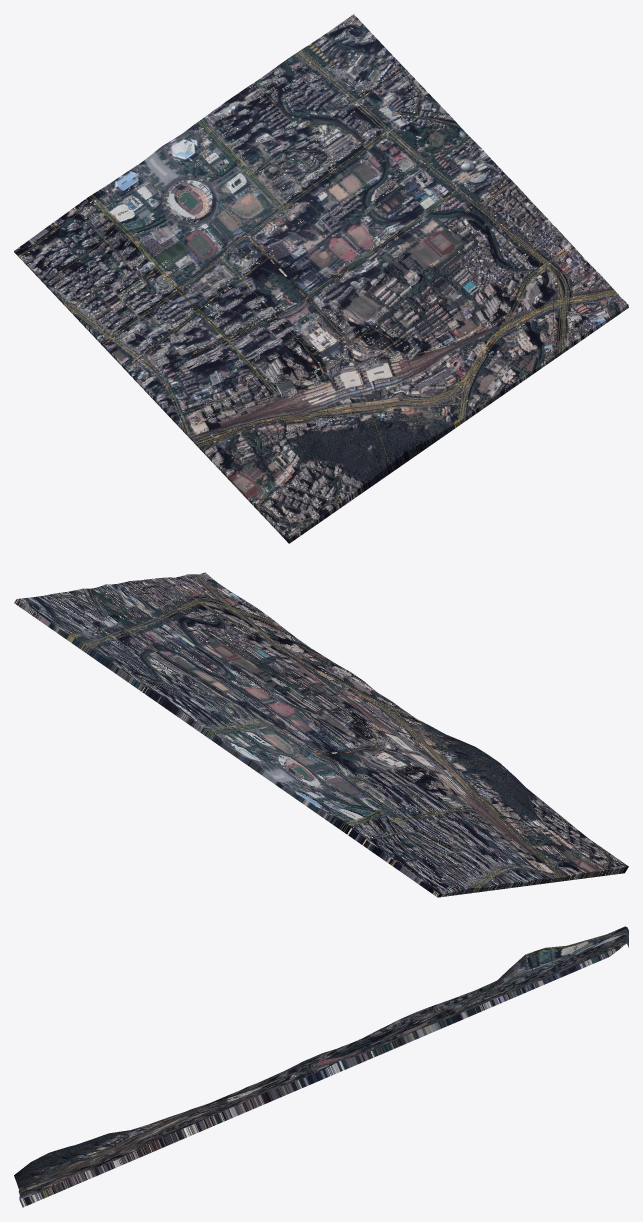
3 renders of one model, top to bottom at view 1: azimuth 30°, elevation 25°; view 2: azimuth 150°, elevation 25°; view 3: azimuth 270°, elevation 25°, orthographic. The views are drawn at different scales.
Visible parts, largest first — view 1: 2_1_5; view 2: 2_1_5; view 3: 2_1_5.
Boxes of the visible parts, bbox=[...] form: 2_1_5: bbox=[14, 14, 628, 543]; 2_1_5: bbox=[14, 572, 628, 897]; 2_1_5: bbox=[14, 926, 628, 1207].
Size of the model in its own units: 2451 by 1786 by 2270.
1 material, 1 textured.
